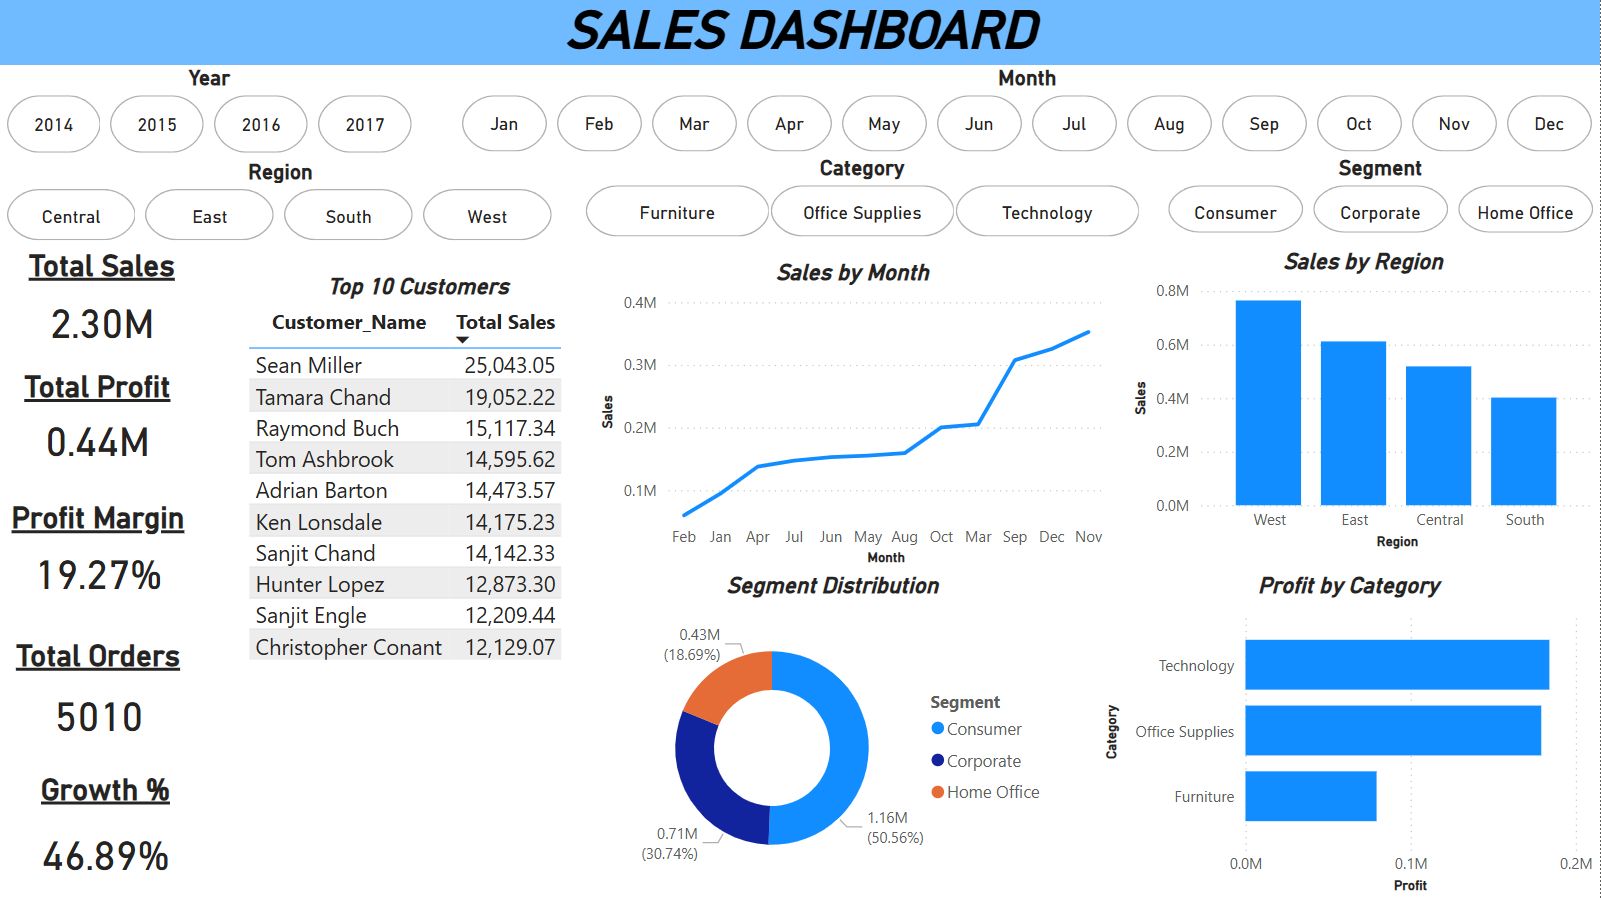

Layout of this report page (visuals, bound fields, positions):
{"tool":"powerbi","page":{"name":"Page 1","canvas":[1280,720],"ordinal":0},"visuals":[{"type":"card","title":"Total Sales","fields":{"Values":["Orders_Table.Total Sales"]},"box":[2.5,198.8,156.2,88.8],"z":0},{"type":"card","title":"Total Profit","fields":{"Values":["Orders_Table.Total Profit"]},"box":[0,296.2,155,83.8],"z":1000},{"type":"card","title":"Profit Margin","fields":{"Values":["Orders_Table.Profit Margin"]},"box":[0,401.2,156.2,86.2],"z":2000},{"type":"card","title":"Growth %","fields":{"Values":["Orders_Table.Growth %"]},"box":[0,617.5,167.5,102.5],"z":3000},{"type":"card","title":"Total Orders","fields":{"Values":["Orders_Table.Total Orders"]},"box":[0,511.2,156.2,93.8],"z":4000},{"type":"lineChart","title":"Sales by Month","fields":{"Category":["Calendar.Month"],"Y":["Sum(Orders_Table.Sales)"]},"box":[475,207.5,412.5,250],"z":5000},{"type":"clusteredColumnChart","title":"Sales by Region","fields":{"Category":["customers.Region"],"Y":["Sum(Orders_Table.Sales)"]},"box":[901.2,198.8,377.5,246.2],"z":6000},{"type":"barChart","title":"Profit by Category","fields":{"Y":["Sum(Orders_Table.Profit)"],"Category":["Products_Table.Category"]},"box":[877.5,457.5,401.2,262.5],"z":7000},{"type":"tableEx","title":"Top 10 Customers","fields":{"Values":["customers.Customer_Name","Orders_Table.Total Sales"]},"box":[192.5,218.8,282.5,321.2],"z":8000},{"type":"donutChart","title":"Segment  Distribution","fields":{"Category":["customers.Segment"],"Y":["Sum(Orders_Table.Sales)"]},"box":[485,457.5,361.2,262.5],"z":9000},{"type":"textbox","title":"SALES DASHBOARD","box":[0,0,1280,52.5],"z":10000},{"type":"advancedSlicerVisual","fields":{"Values":["Calendar.Year"]},"box":[0,52.5,333.8,76.2],"z":11000},{"type":"advancedSlicerVisual","fields":{"Values":["customers.Region"]},"box":[0,127.5,447.5,71.2],"z":12000},{"type":"advancedSlicerVisual","fields":{"Values":["Products_Table.Category"]},"box":[462.5,125,453.8,71.2],"z":13000},{"type":"advancedSlicerVisual","fields":{"Values":["customers.Segment"]},"box":[928.8,125,350,67.5],"z":14000},{"type":"advancedSlicerVisual","fields":{"Values":["Calendar.Month"]},"box":[363.8,52.5,915,75],"z":15000}]}

Visuals, with their boxes in screenshot pixels (x1, y1, x2, y2), scaled from the page's 1280x720 canvas onto the 1601x899 screenshot:
"Total Sales" card: 3 248 198 359
"Total Profit" card: 0 370 194 474
"Profit Margin" card: 0 501 195 609
"Growth %" card: 0 771 210 898
"Total Orders" card: 0 638 195 755
"Sales by Month" lineChart: 594 259 1110 571
"Sales by Region" clusteredColumnChart: 1127 248 1599 556
"Profit by Category" barChart: 1098 571 1599 898
"Top 10 Customers" tableEx: 241 273 594 674
"Segment  Distribution" donutChart: 607 571 1058 898
"SALES DASHBOARD" textbox: 0 0 1600 66
advancedSlicerVisual - Calendar.Year: 0 66 418 161
advancedSlicerVisual - customers.Region: 0 159 560 248
advancedSlicerVisual - Products_Table.Category: 578 156 1146 245
advancedSlicerVisual - customers.Segment: 1162 156 1599 240
advancedSlicerVisual - Calendar.Month: 455 66 1599 159
